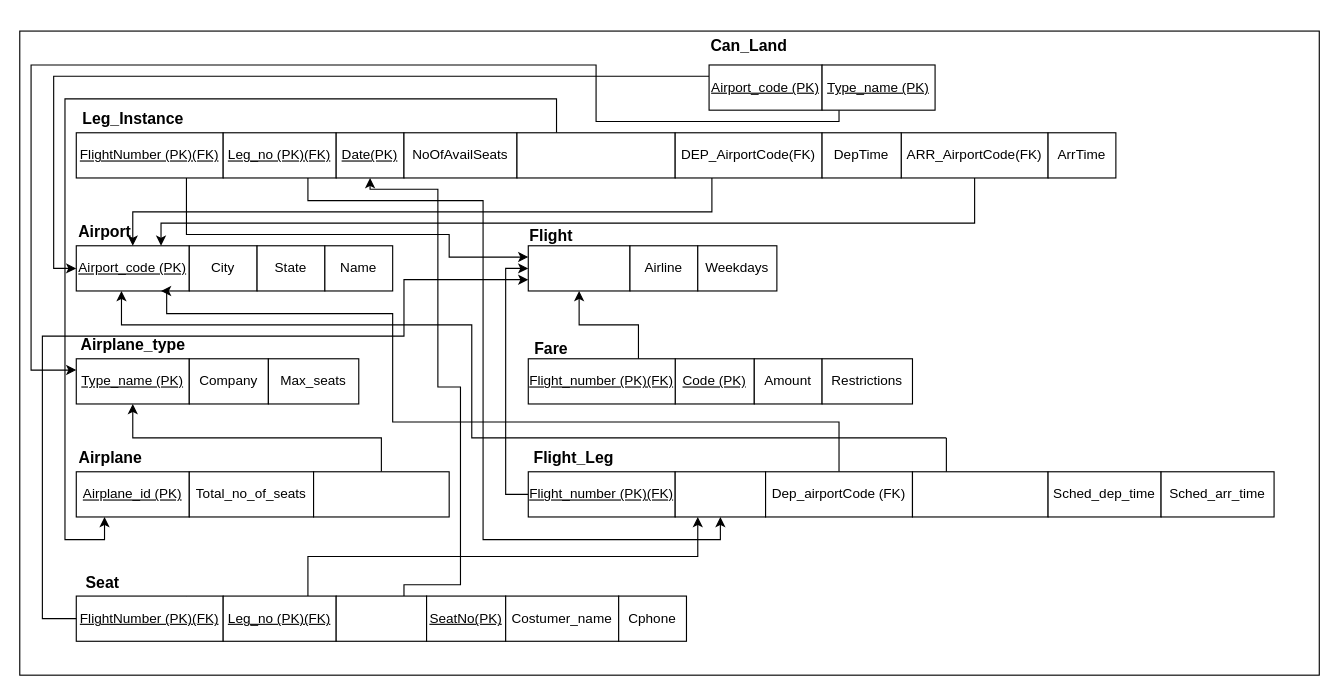
This 1339x695 diagram has some shape labels left out. Here are the shapes that lost their labels. From the top down, the centre of each, then its label:
At (595,155): "Airplane_AirplaneId (FK)".
At (578,268): "Number (PK)".
At (380,494): "Type_name (FK)".
At (720,494): "Leg_no (PK)".
At (979,494): "Arr_airportCode (FK)".
At (381,618): "Date(PK)(FK)".
